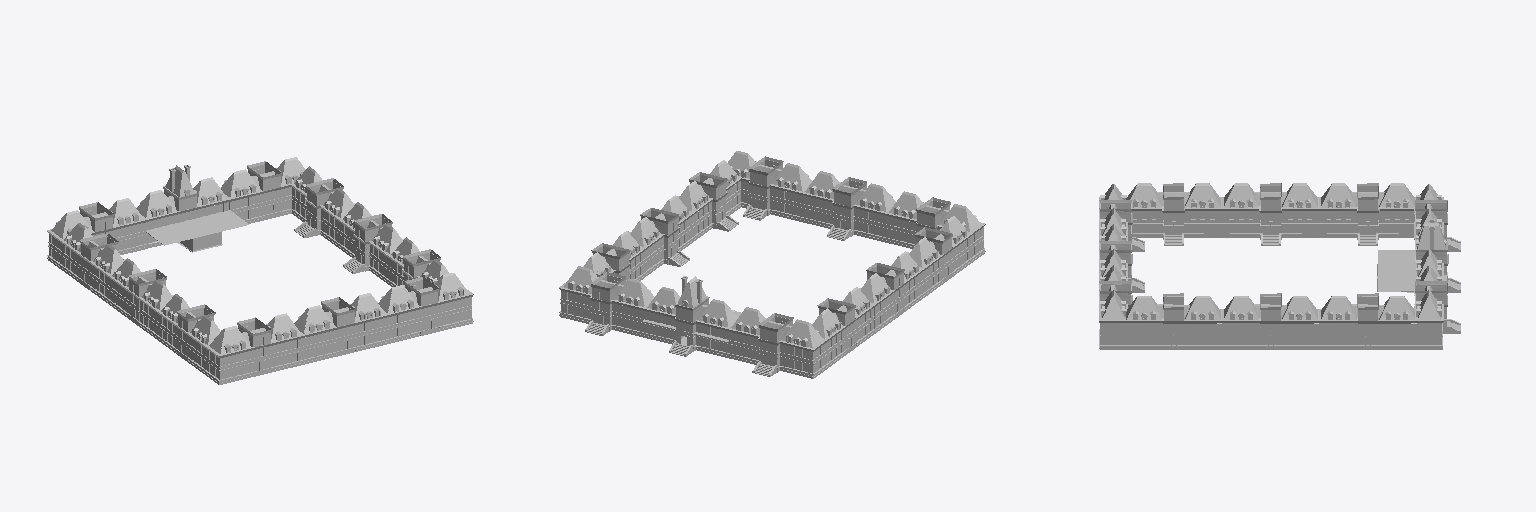
File: дворецнахуй.obj
The picture shows the model from 3 angles: view 1: azimuth 30°, elevation 25°; view 2: azimuth 150°, elevation 25°; view 3: azimuth 270°, elevation 25°; orthographic projection.
Visible parts, largest first — view 1: SM_Palace.004; view 2: SM_Palace.004; view 3: SM_Palace.004.
Part boxes in pixels (bbox=[...]): SM_Palace.004: bbox=[47, 157, 473, 384]; SM_Palace.004: bbox=[559, 151, 985, 378]; SM_Palace.004: bbox=[1099, 183, 1460, 349].
Size of the model in its own units: 153 by 37.39 by 189.